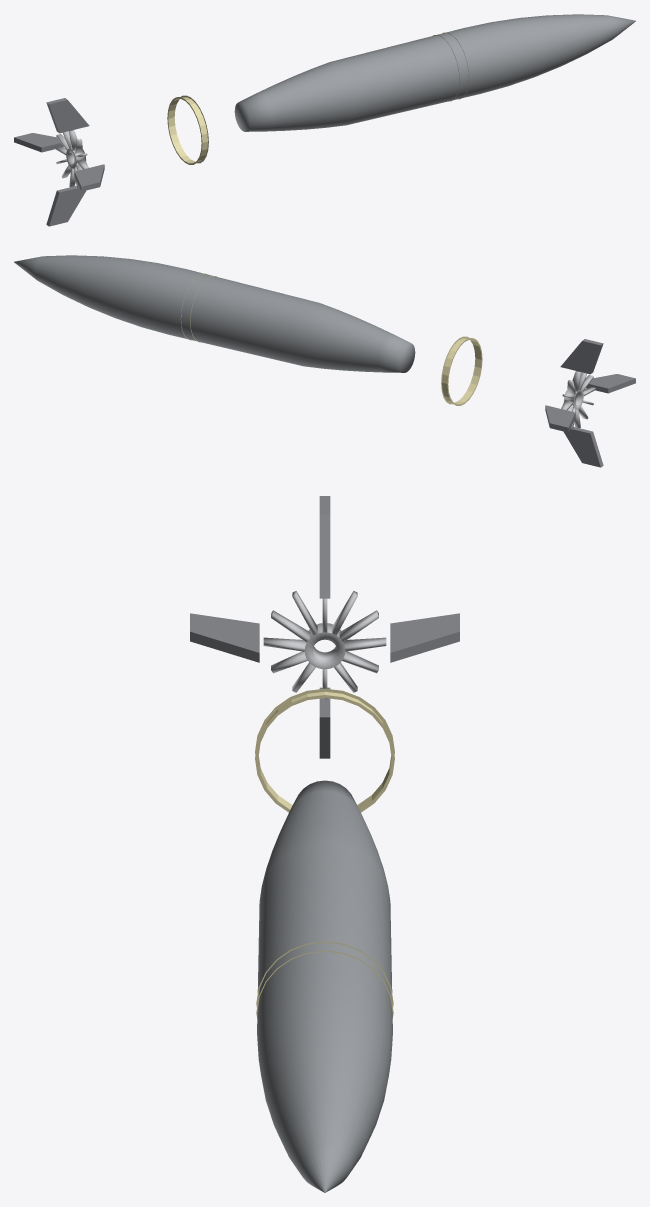
The model's file is US_TORP_Mk37_LOD1.fbx.
The picture shows the model from 3 angles, top to bottom: view 1: azimuth 30°, elevation 25°; view 2: azimuth 150°, elevation 25°; view 3: azimuth 270°, elevation 25°; orthographic projection. The views are drawn at different scales.
Parts seen in each view (by area): view 1: WPN_US_TORP_Mk37_LOD1_Body, WPN_US_TORP_Mk37_LOD1_Fins, WPN_US_TORP_Mk37_LOD1_Marking, WPN_US_TORP_Mk37_LOD1_Propulsor; view 2: WPN_US_TORP_Mk37_LOD1_Body, WPN_US_TORP_Mk37_LOD1_Fins, WPN_US_TORP_Mk37_LOD1_Marking, WPN_US_TORP_Mk37_LOD1_Propulsor; view 3: WPN_US_TORP_Mk37_LOD1_Body, WPN_US_TORP_Mk37_LOD1_Fins, WPN_US_TORP_Mk37_LOD1_Propulsor, WPN_US_TORP_Mk37_LOD1_Marking.
Boxes of the visible parts, left/top/right/bottom form: WPN_US_TORP_Mk37_LOD1_Body: left=234, top=14, right=635, bottom=131; WPN_US_TORP_Mk37_LOD1_Fins: left=14, top=98, right=104, bottom=226; WPN_US_TORP_Mk37_LOD1_Marking: left=167, top=32, right=469, bottom=164; WPN_US_TORP_Mk37_LOD1_Propulsor: left=54, top=130, right=88, bottom=188; WPN_US_TORP_Mk37_LOD1_Body: left=14, top=255, right=415, bottom=372; WPN_US_TORP_Mk37_LOD1_Fins: left=545, top=339, right=635, bottom=467; WPN_US_TORP_Mk37_LOD1_Marking: left=180, top=273, right=482, bottom=405; WPN_US_TORP_Mk37_LOD1_Propulsor: left=561, top=371, right=595, bottom=429; WPN_US_TORP_Mk37_LOD1_Body: left=257, top=780, right=392, bottom=1192; WPN_US_TORP_Mk37_LOD1_Fins: left=190, top=496, right=459, bottom=758; WPN_US_TORP_Mk37_LOD1_Propulsor: left=263, top=591, right=386, bottom=699; WPN_US_TORP_Mk37_LOD1_Marking: left=255, top=688, right=394, bottom=1018.
Size of the model in its own units: 4.82 by 0.9576 by 0.9576.
